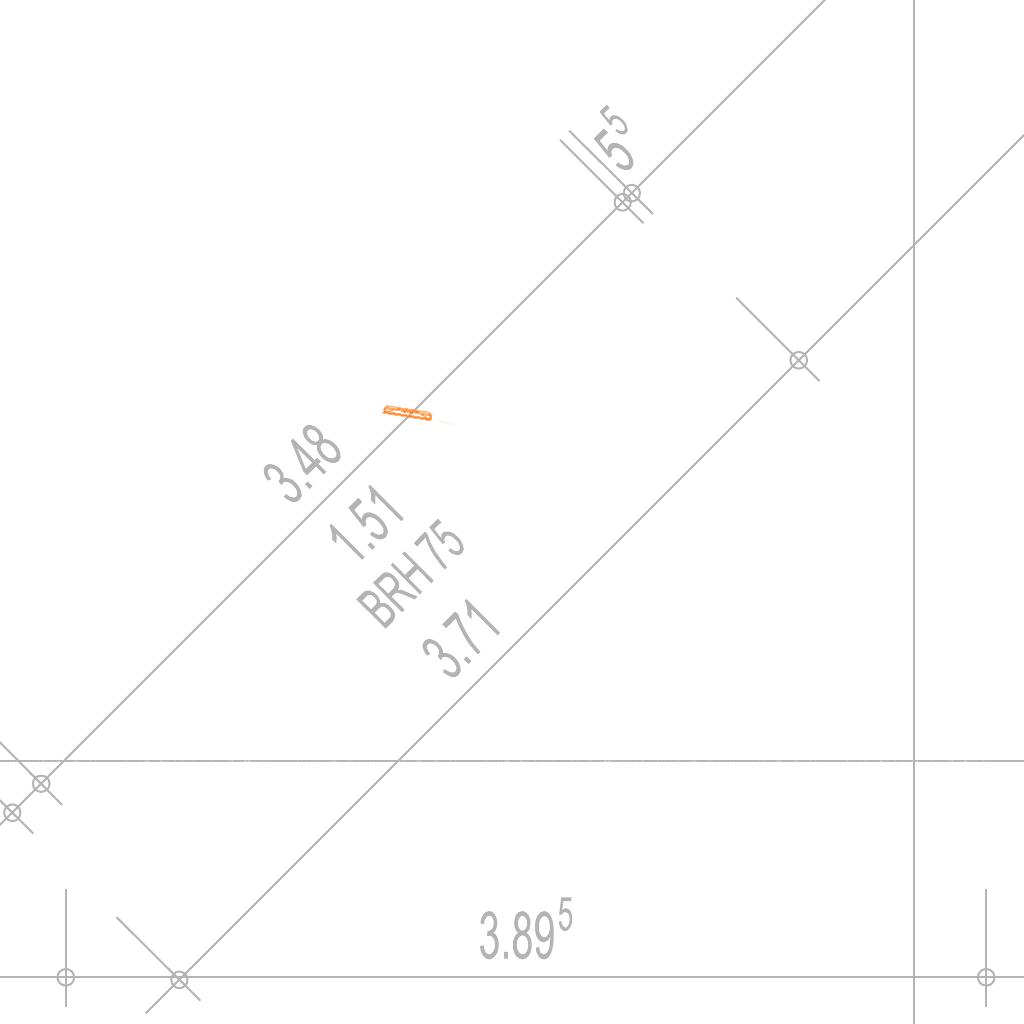Sicherheitsleuchte_Wandeinbau: (380, 402, 460, 427)
